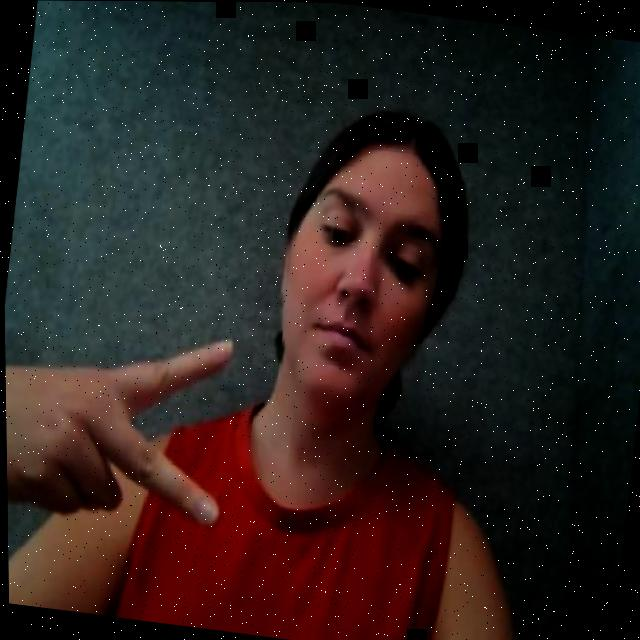Scissors: (3, 299, 250, 547)
